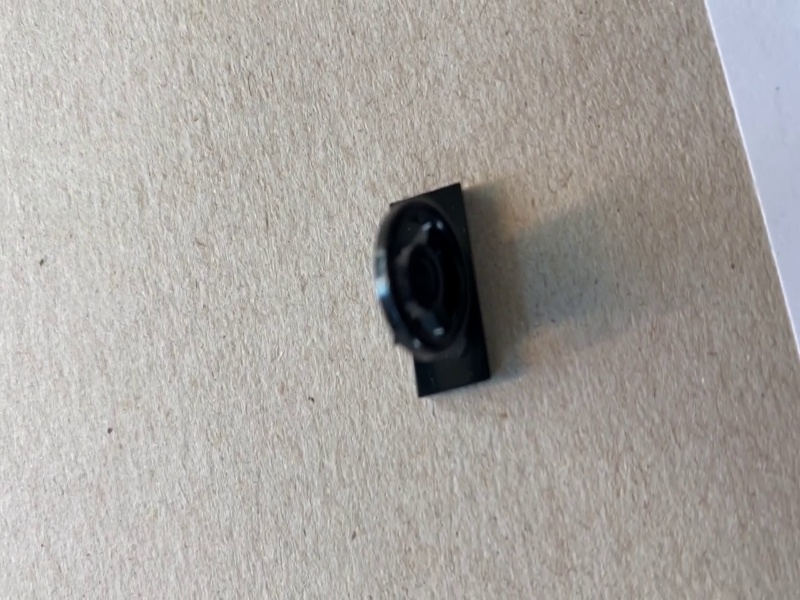steering wheel: (371, 182, 494, 400)
